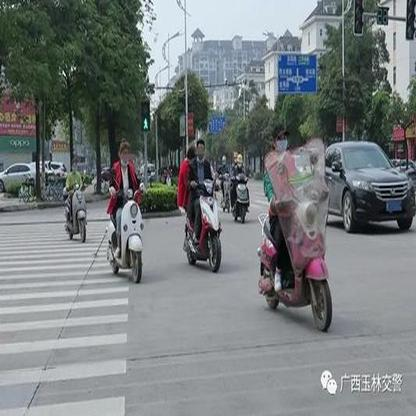target: (257, 125, 335, 332), (175, 137, 223, 272), (104, 137, 144, 284)
